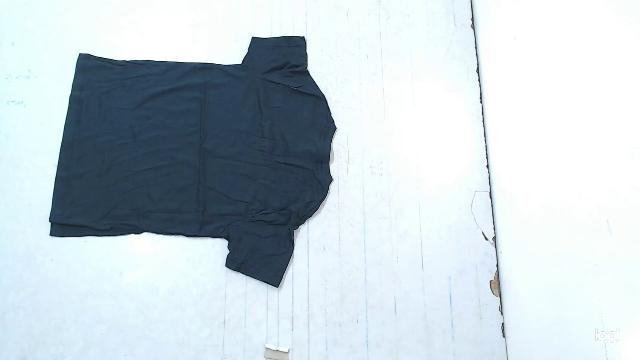new-garment: (49, 36, 336, 287)
